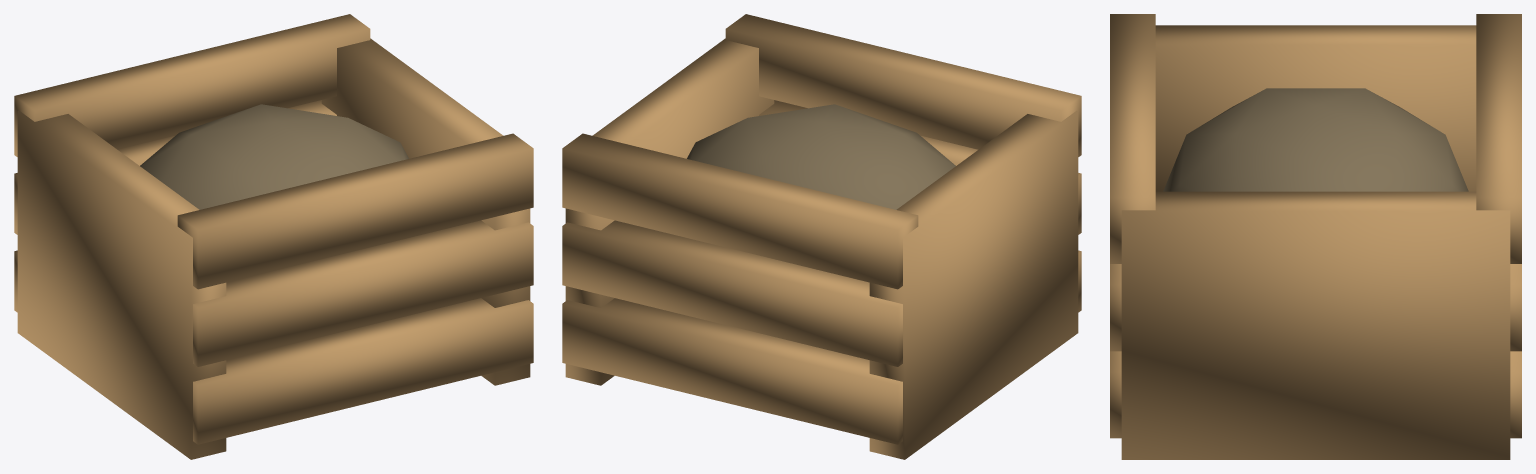
The model's file is prop-compost.glb.
3 renders of one model, left to right at view 1: azimuth 30°, elevation 25°; view 2: azimuth 150°, elevation 25°; view 3: azimuth 270°, elevation 25°, orthographic. The views are drawn at different scales.
Parts seen in each view (by area): view 1: prop-compost_wood, Rich compost; view 2: prop-compost_wood, Rich compost; view 3: prop-compost_wood, Rich compost.
Boxes of the visible parts, x1,y1,x2,y2 form: prop-compost_wood: [14, 14, 533, 459]; Rich compost: [140, 104, 408, 209]; prop-compost_wood: [562, 14, 1081, 459]; Rich compost: [687, 104, 955, 209]; prop-compost_wood: [1110, 14, 1521, 459]; Rich compost: [1163, 88, 1468, 191].
Size of the model in its own units: 0.96 by 0.63 by 0.9.
